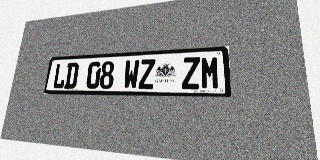0: (85, 61, 102, 89)
8: (99, 61, 115, 89)
D: (64, 62, 79, 89)
L: (52, 63, 67, 89)
M: (201, 56, 220, 89)
W: (123, 60, 140, 89)
Z: (182, 57, 200, 89), (138, 59, 155, 89)
